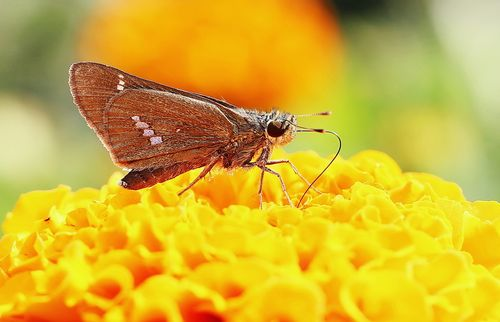Hesperiidae: (64, 54, 337, 210)
